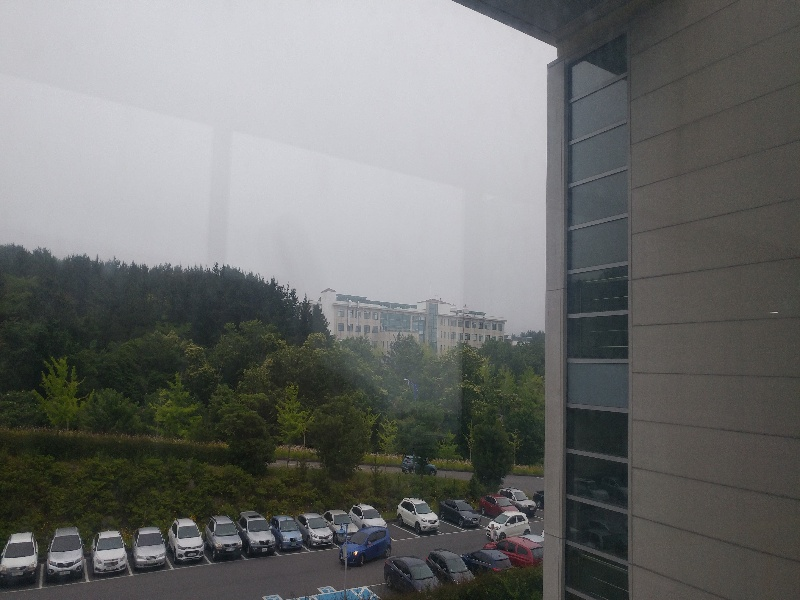College of Medicine: (311, 281, 521, 348), (323, 292, 510, 344)
